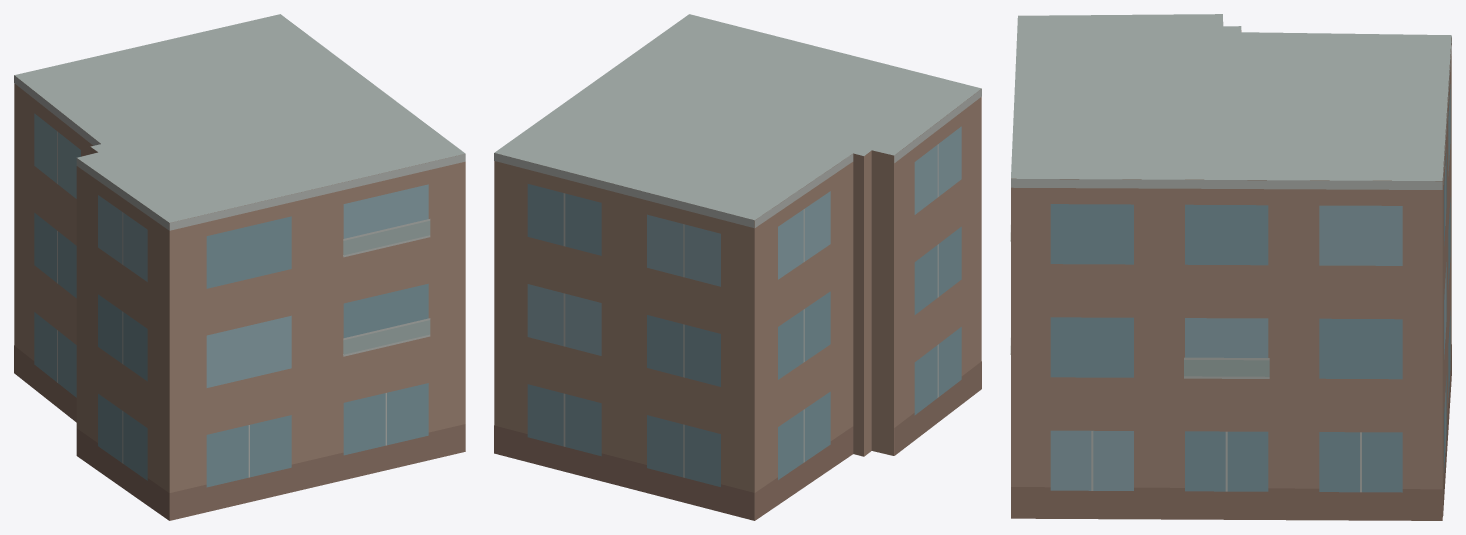
The model's file is survey-upis-32550522.glb.
The picture shows the model from 3 angles, left to right: view 1: azimuth 30°, elevation 25°; view 2: azimuth 150°, elevation 25°; view 3: azimuth 270°, elevation 25°; orthographic projection. The views are drawn at different scales.
Visible parts, largest first — view 1: survey-upis-32550522.tmp; view 2: survey-upis-32550522.tmp; view 3: survey-upis-32550522.tmp.
Boxes of the visible parts, box(x1,y1,x2,y2) form: survey-upis-32550522.tmp: box(14, 14, 465, 520); survey-upis-32550522.tmp: box(494, 14, 981, 520); survey-upis-32550522.tmp: box(1010, 14, 1451, 520).
Bounding box in the file's own units: 9.66 × 9.15 × 10.78.
